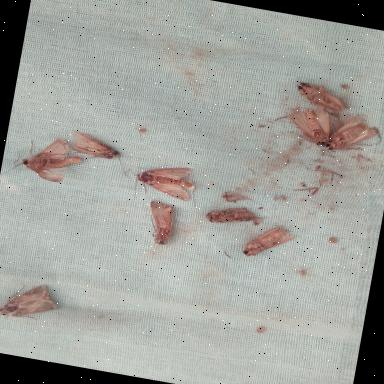abw: (3, 132, 85, 188), (0, 275, 63, 345), (120, 157, 198, 206), (320, 112, 383, 170), (272, 100, 340, 152), (288, 79, 352, 119), (240, 223, 295, 265), (68, 130, 124, 166), (142, 200, 179, 250), (204, 202, 256, 232)
